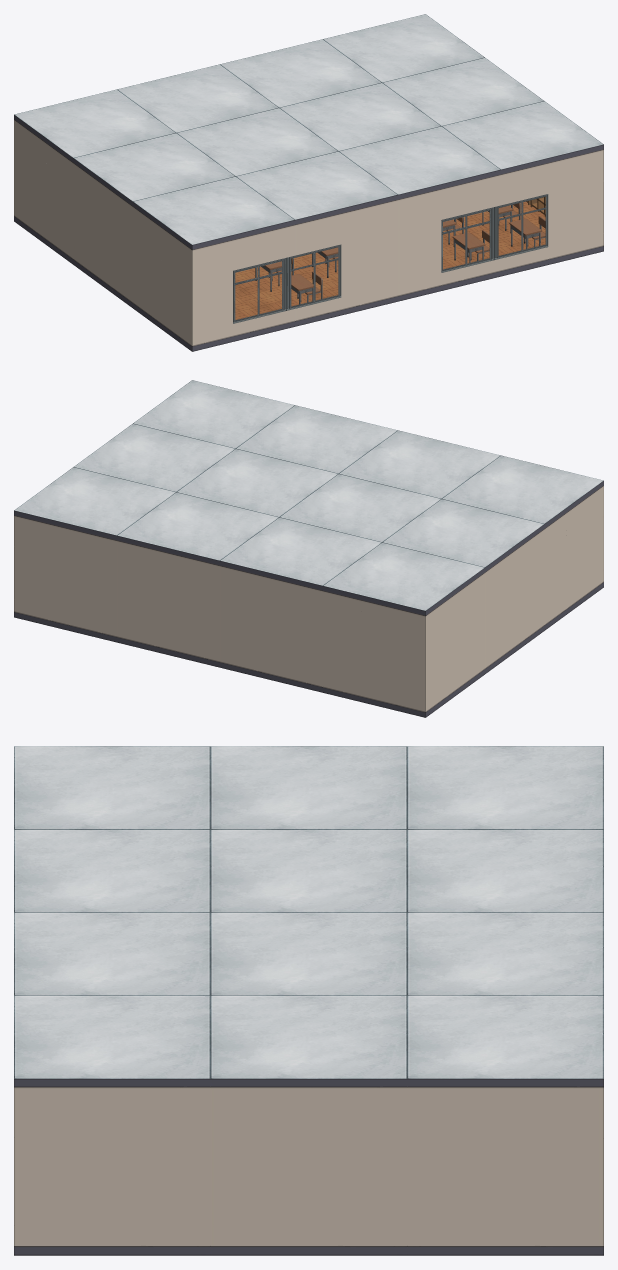
The model's file is Classroom.fbx.
3 views of the same model, one above another, from view 1: azimuth 30°, elevation 25°; view 2: azimuth 150°, elevation 25°; view 3: azimuth 270°, elevation 25° (orthographic). The views are drawn at different scales.
Parts seen in each view (by area): view 1: part_04, part_05, polySurface8178, polySurface8190, polySurface8166, polySurface8176; view 2: part_04; view 3: part_04.
Boxes of the visible parts, <box> form: part_04: <box>14,14,603,351</box>; part_05: <box>235,201,545,319</box>; polySurface8178: <box>233,244,341,323</box>; polySurface8190: <box>441,194,548,272</box>; polySurface8166: <box>452,232,485,262</box>; polySurface8176: <box>509,218,541,248</box>; part_04: <box>14,380,603,717</box>; part_04: <box>14,746,603,1255</box>.
Size of the model in its own units: 2000 by 496 by 1500.
